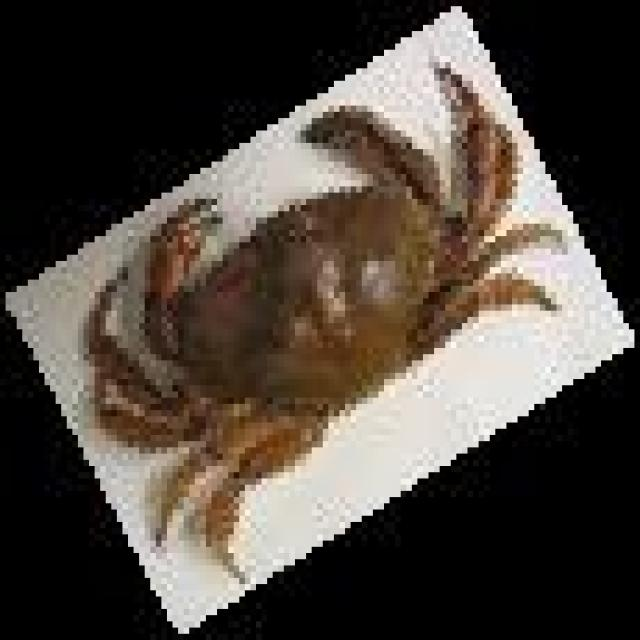Native Rock crab: (89, 62, 557, 572)
